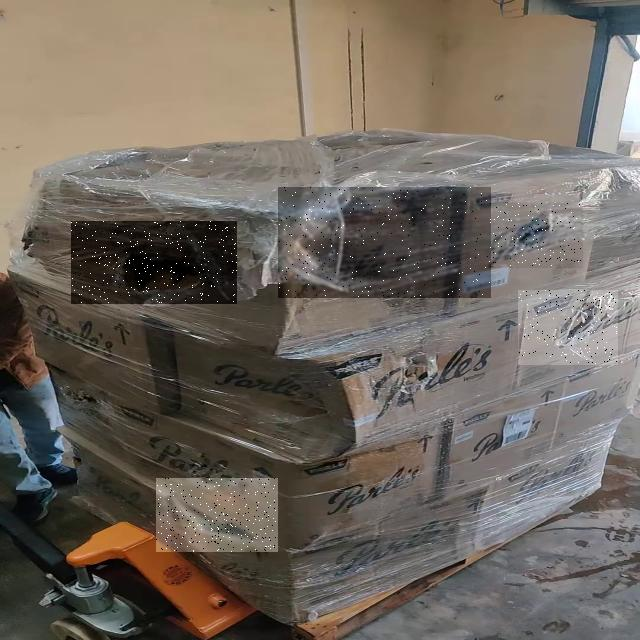leakage: (71, 221, 237, 303)
tear: (278, 187, 491, 298), (157, 478, 276, 552), (518, 290, 617, 365), (474, 204, 581, 266)
